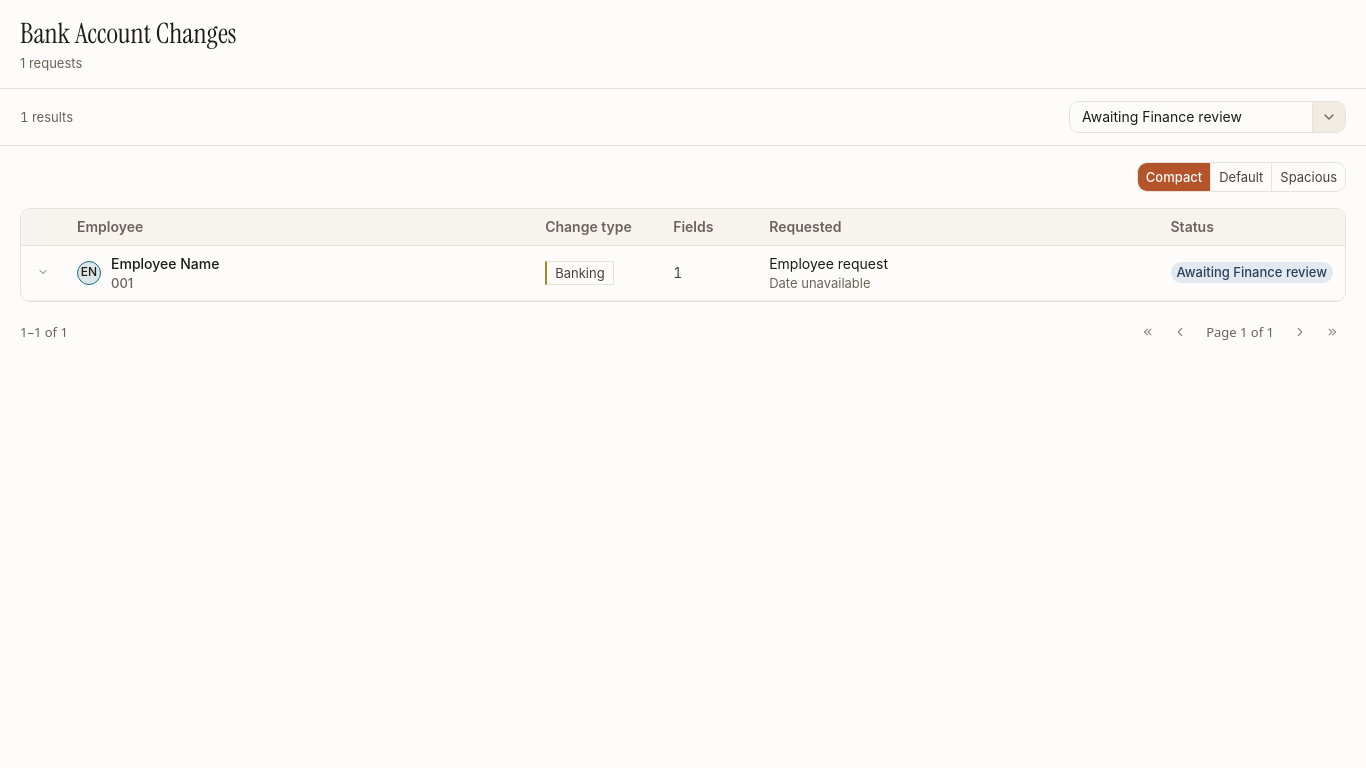
Test: opens the Finance queue without linking to employee records or offering HR approval
Expected: the text "Employee Name" is shown, [111,254,219,274]
Expected: the heading "Bank Account Changes" is shown, [20,16,236,52]
Click the button named "Expand row": x=43, y=272 [33,262,53,282]
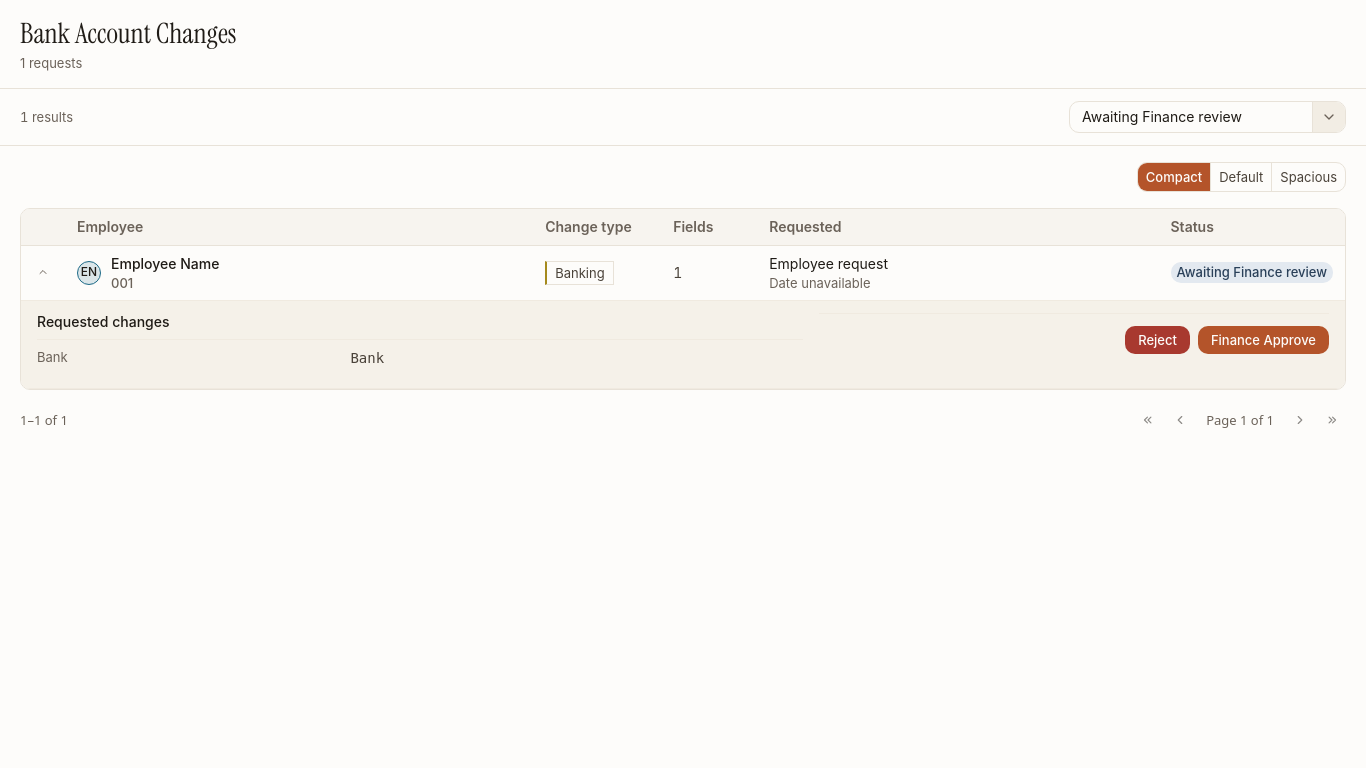
Expected: the 2nd text "Bank" is shown, [350,350,384,366]
Click the button "Finance Approve": x=1263, y=340 [1198,326,1329,354]
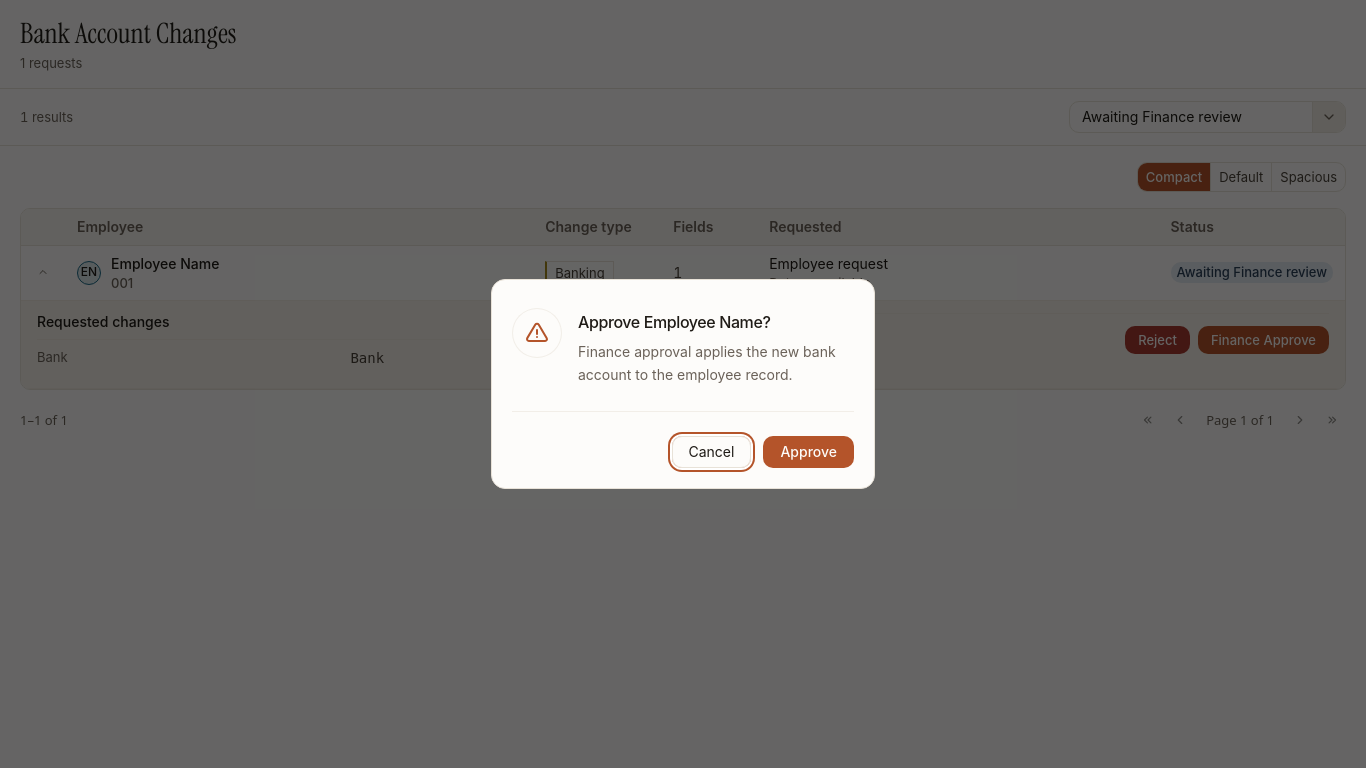
Expected: the heading "Approve Employee Name?" is shown, [578,312,770,332]
